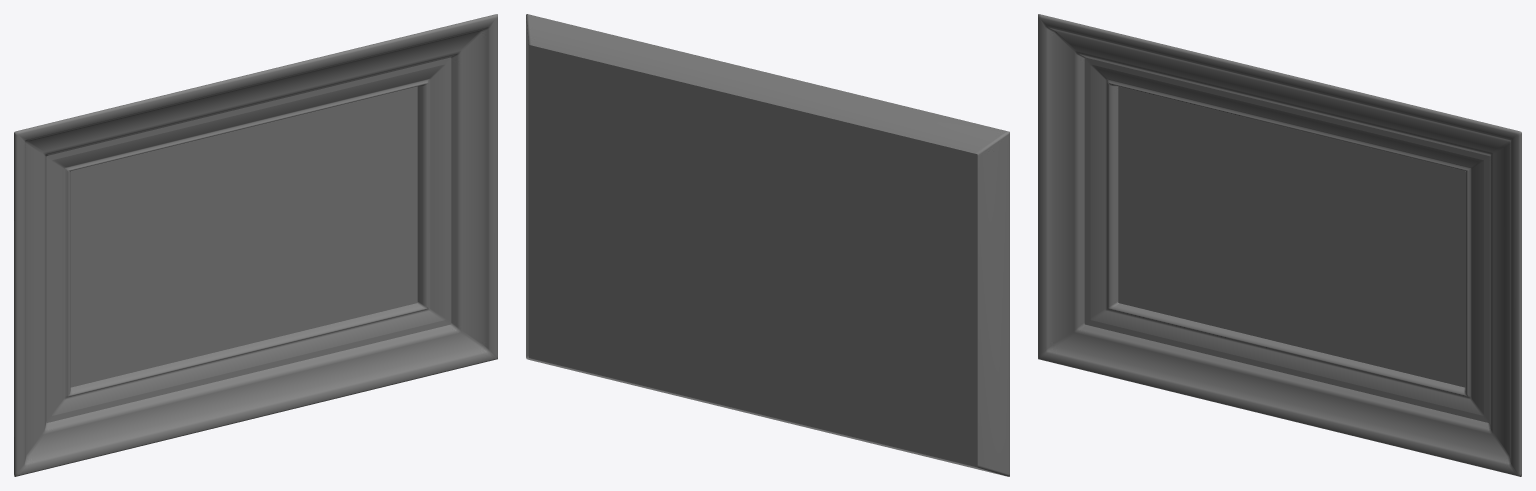
Rendered from PictureFrame2.fbx.
The picture shows the model from 3 angles, left to right: view 1: azimuth 30°, elevation 25°; view 2: azimuth 150°, elevation 25°; view 3: azimuth 330°, elevation 25°; orthographic projection.
Parts seen in each view (by area): view 1: PictureFrame_24x36in_LR001_1; view 2: PictureFrame_24x36in_LR001_1; view 3: PictureFrame_24x36in_LR001_1.
Boxes of the visible parts, left/top/right/bottom form: PictureFrame_24x36in_LR001_1: left=14, top=14, right=497, bottom=476; PictureFrame_24x36in_LR001_1: left=526, top=14, right=1009, bottom=476; PictureFrame_24x36in_LR001_1: left=1038, top=14, right=1521, bottom=476.
Size of the model in its own units: 98.46 by 67.16 by 5.62.
1 material, 1 textured.
